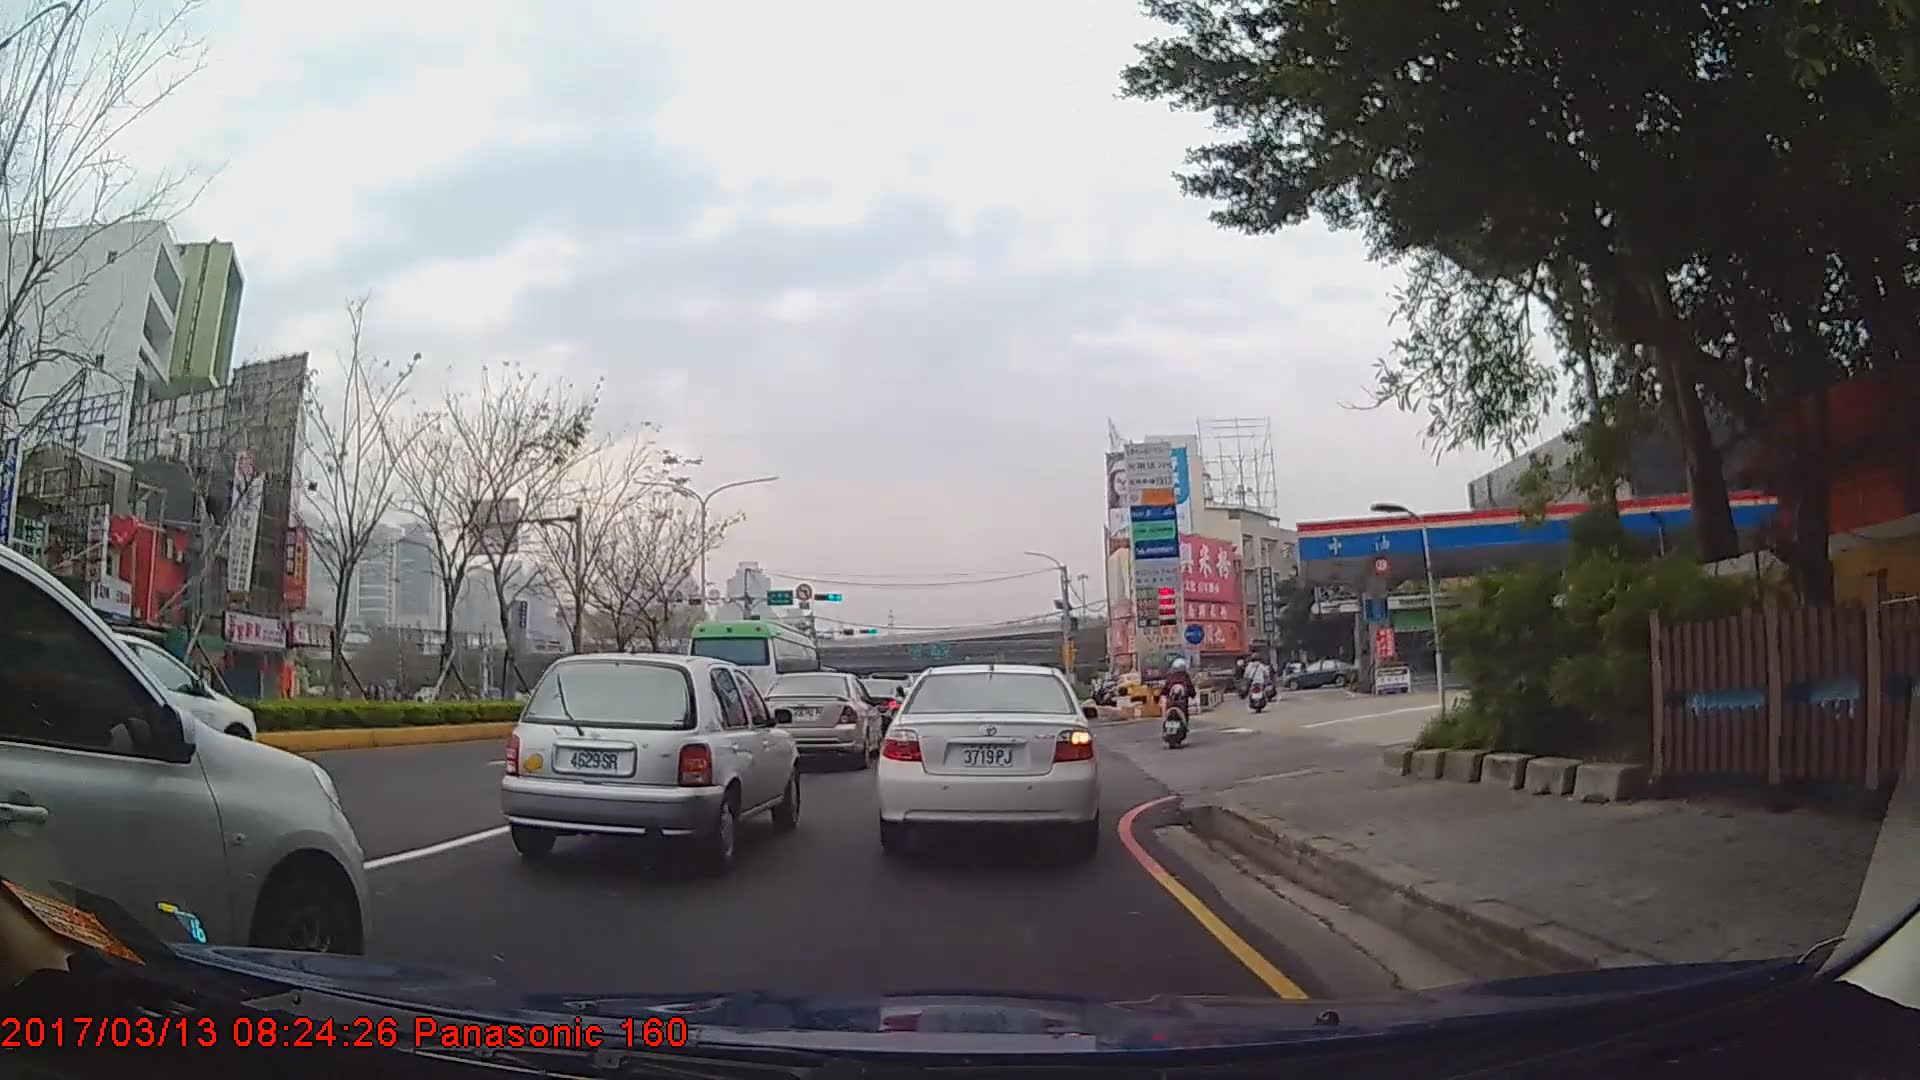rider: (1163, 660, 1196, 756), (1243, 652, 1272, 714)
vehicle: (0, 546, 374, 992), (502, 651, 802, 868), (874, 659, 1099, 858), (684, 617, 821, 727), (753, 671, 881, 767), (1286, 658, 1356, 688)
